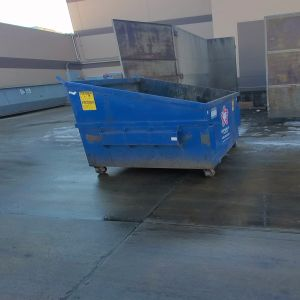Dumpster: (65, 82, 244, 180)
